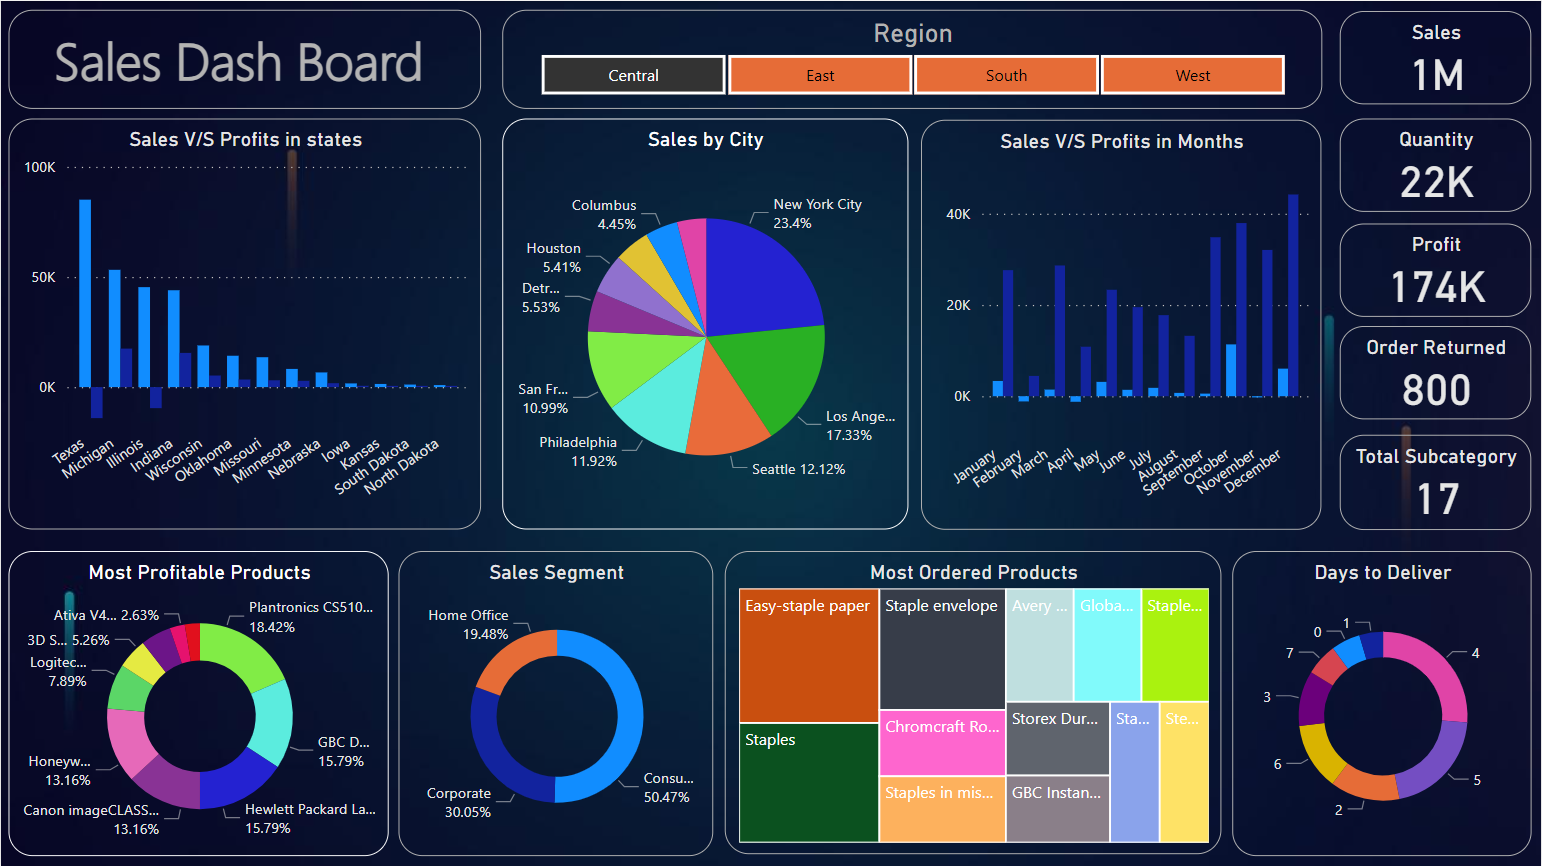

The dashboard page shown, as its layout file describes it:
{"tool":"powerbi","page":{"name":"Sales DashBoard","canvas":[1280,720],"ordinal":0},"visuals":[{"type":"textbox","box":[5.8,7,393,82.6],"z":0},{"type":"slicer","title":"Region","fields":{"Values":["Orders.Region"]},"box":[416.3,7,681.4,82.6],"z":1000},{"type":"clusteredColumnChart","title":"Sales V/S Profits in states","fields":{"Y":["Sum(Orders.Sales)","Sum(Orders.Profit)"],"Category":["Orders.State"]},"box":[5.8,97.7,393,341.9],"z":2000},{"type":"donutChart","title":"Most Profitable Products","fields":{"Category":["Table1.Product Name"],"Y":["CountNonNull(Table1.Product Name)"]},"box":[5.8,457,316.3,253.5],"z":3000},{"type":"donutChart","title":"Sales Segment","fields":{"Category":["Orders.Segment"],"Y":["CountNonNull(Orders.Segment)"]},"box":[330.2,457,261.6,253.5],"z":4000},{"type":"donutChart","title":"Days to Deliver","fields":{"Y":["CountNonNull(Table1.TimeToDeliver)"],"Category":["Table1.TimeToDeliver"]},"box":[1023.3,457,248.8,253.5],"z":5000},{"type":"card","title":"Profit","fields":{"Values":["Sum(Table1.Profit)"]},"box":[1112.8,184.9,159.3,77.9],"z":6000},{"type":"card","title":"Quantity","fields":{"Values":["Sum(Table1.Quantity)"]},"box":[1112.8,97.7,159.3,77.9],"z":7000},{"type":"card","title":"Sales","fields":{"Values":["Sum(Table1.Sales)"]},"box":[1112.8,8.1,159.3,77.9],"z":8000},{"type":"card","title":"Order Returned","fields":{"Values":["CountNonNull(Returns.Yes/No)"]},"box":[1112.8,269.8,159.3,77.9],"z":9000},{"type":"card","title":"Total Subcategory","fields":{"Values":["Count(Table1.Sub-Category)"]},"box":[1112.8,360.5,159.3,79.1],"z":10000},{"type":"pieChart","title":"Sales by City","fields":{"Y":["Sum(Table1.Sales)"],"Category":["Table1.City"]},"box":[416.3,97.7,337.2,341.9],"z":11000},{"type":"treemap","title":"Most Ordered Products","fields":{"Group":["Table1.Product Name"],"Values":["CountNonNull(Table1.Product Name)"]},"box":[601.2,457,412.8,252.3],"z":12000},{"type":"clusteredColumnChart","title":"Sales V/S Profits in Months","fields":{"Category":["Orders.Order Date.Variation.Date Hierarchy.Month"],"Y":["Sum(Orders.Profit)","Sum(Orders.Sales)"]},"box":[765.1,98.8,332.6,340.7],"z":12001}]}

Visuals, with their boxes in screenshot pixels (x1, y1, x2, y2), scaled from the page's 1280x720 canvas onto the 1542x866 screenshot:
textbox: detection(7, 8, 480, 108)
"Region" slicer: detection(502, 8, 1322, 108)
"Sales V/S Profits in states" clusteredColumnChart: detection(7, 118, 480, 529)
"Most Profitable Products" donutChart: detection(7, 550, 388, 855)
"Sales Segment" donutChart: detection(398, 550, 713, 855)
"Days to Deliver" donutChart: detection(1233, 550, 1532, 855)
"Profit" card: detection(1341, 222, 1532, 316)
"Quantity" card: detection(1341, 118, 1532, 211)
"Sales" card: detection(1341, 10, 1532, 103)
"Order Returned" card: detection(1341, 325, 1532, 418)
"Total Subcategory" card: detection(1341, 434, 1532, 529)
"Sales by City" pieChart: detection(502, 118, 908, 529)
"Most Ordered Products" treemap: detection(724, 550, 1222, 853)
"Sales V/S Profits in Months" clusteredColumnChart: detection(922, 119, 1322, 529)
